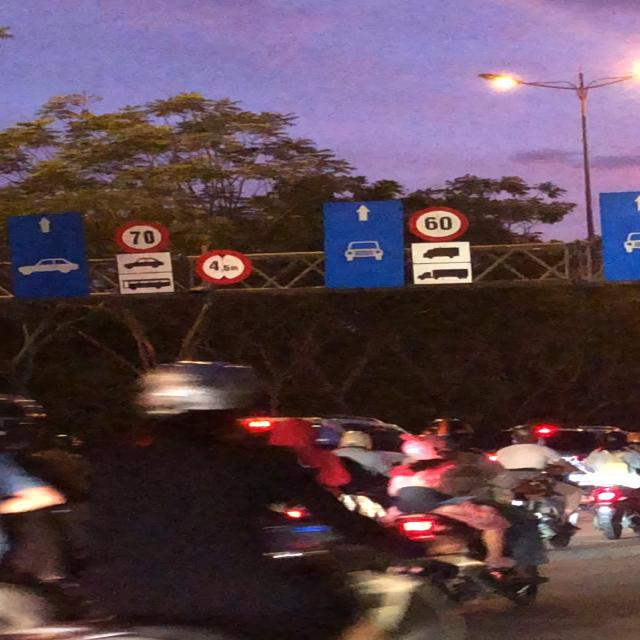Bien bao han che chieu cao: (190, 246, 255, 287)
Bien bao toc do toi da cho phep: (406, 204, 474, 246), (110, 218, 171, 253)
